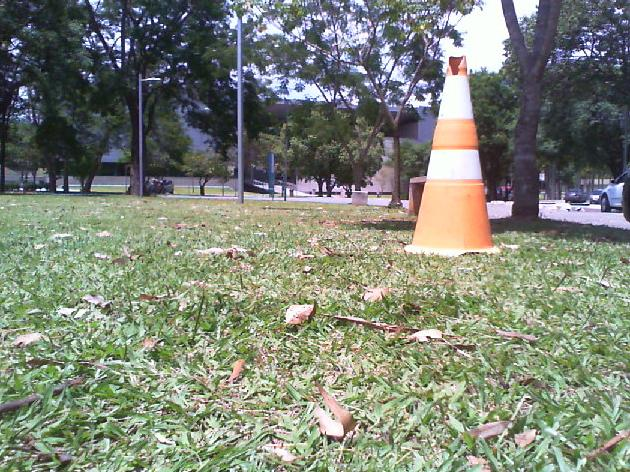0 cone: (405, 56, 503, 256)
